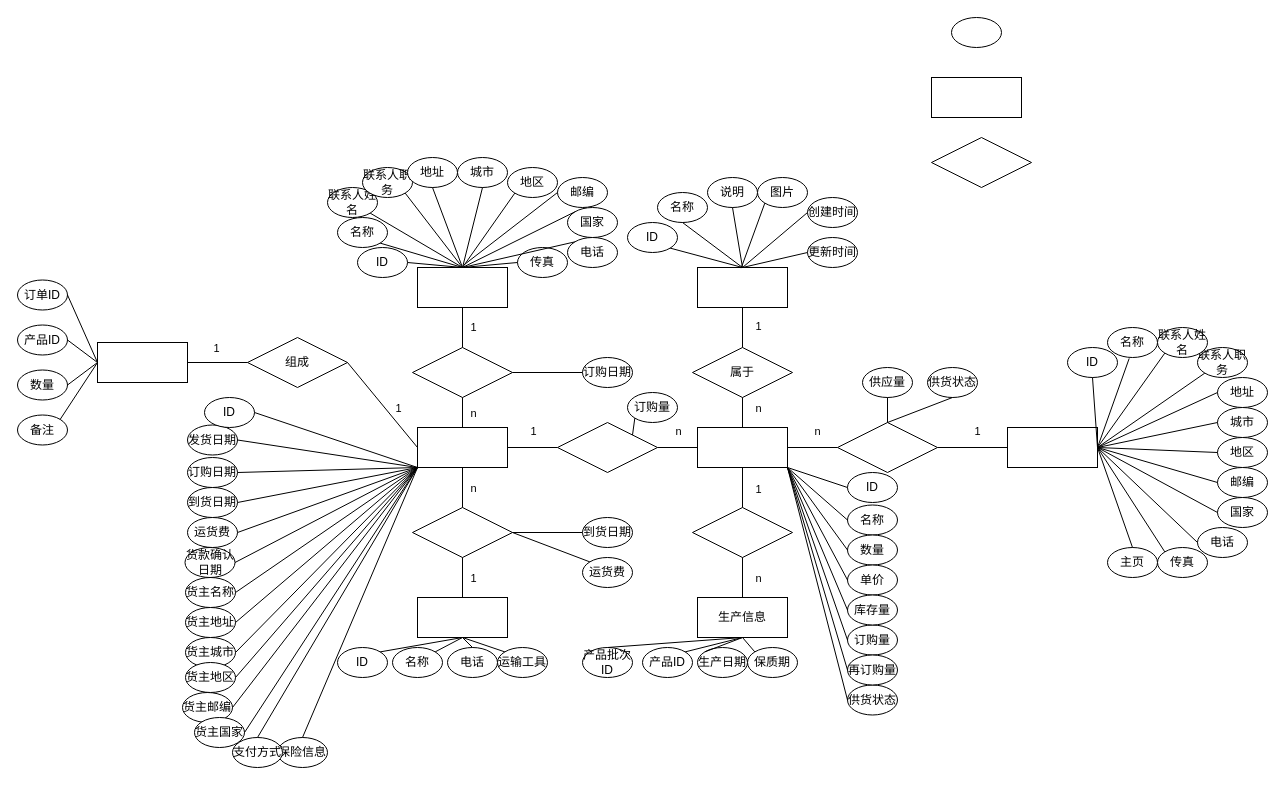
The diagram is 1285 pixels wide and 785 high, and some of its shapes have lost their labels. Here are the shapes that lost their labels. From the top down, the centre of each, then its label:
At [976,32]: "Attribute".
At [976,97]: "Entity".
At [981,162]: "Relationship".
At [462,287]: "客户".
At [742,287]: "类别".
At [142,362]: "订单明细".
At [462,372]: "发出".
At [462,447]: "订单".
At [607,447]: "涵盖".
At [742,447]: "产品".
At [887,447]: "供应".
At [1052,447]: "供应商".
At [462,532]: "运输".
At [742,532]: "对应".
At [462,617]: "运货商".
